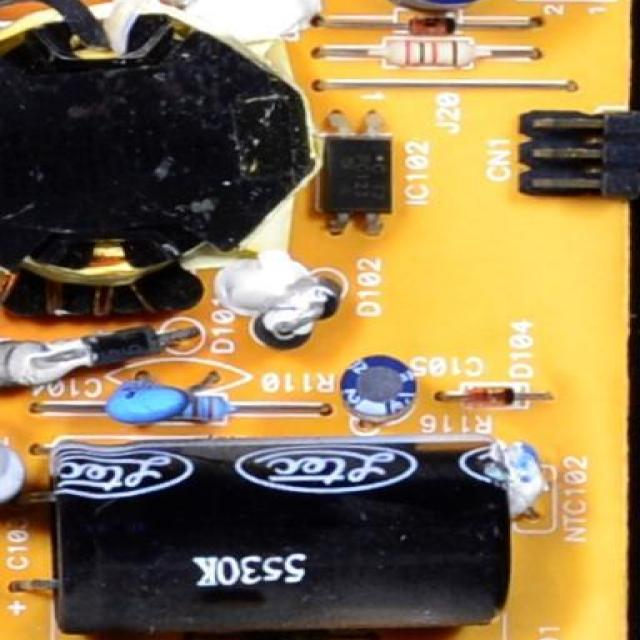capacitor: (53, 434, 514, 640), (335, 352, 427, 420), (110, 372, 190, 424), (357, 0, 525, 12)
resistor: (363, 19, 498, 78), (96, 394, 238, 436), (0, 421, 43, 537)
